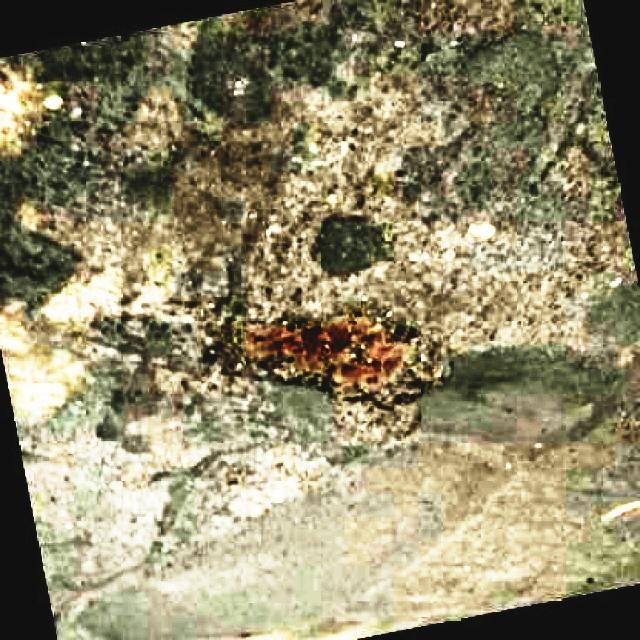pothole: (206, 288, 434, 422), (0, 248, 163, 426)
